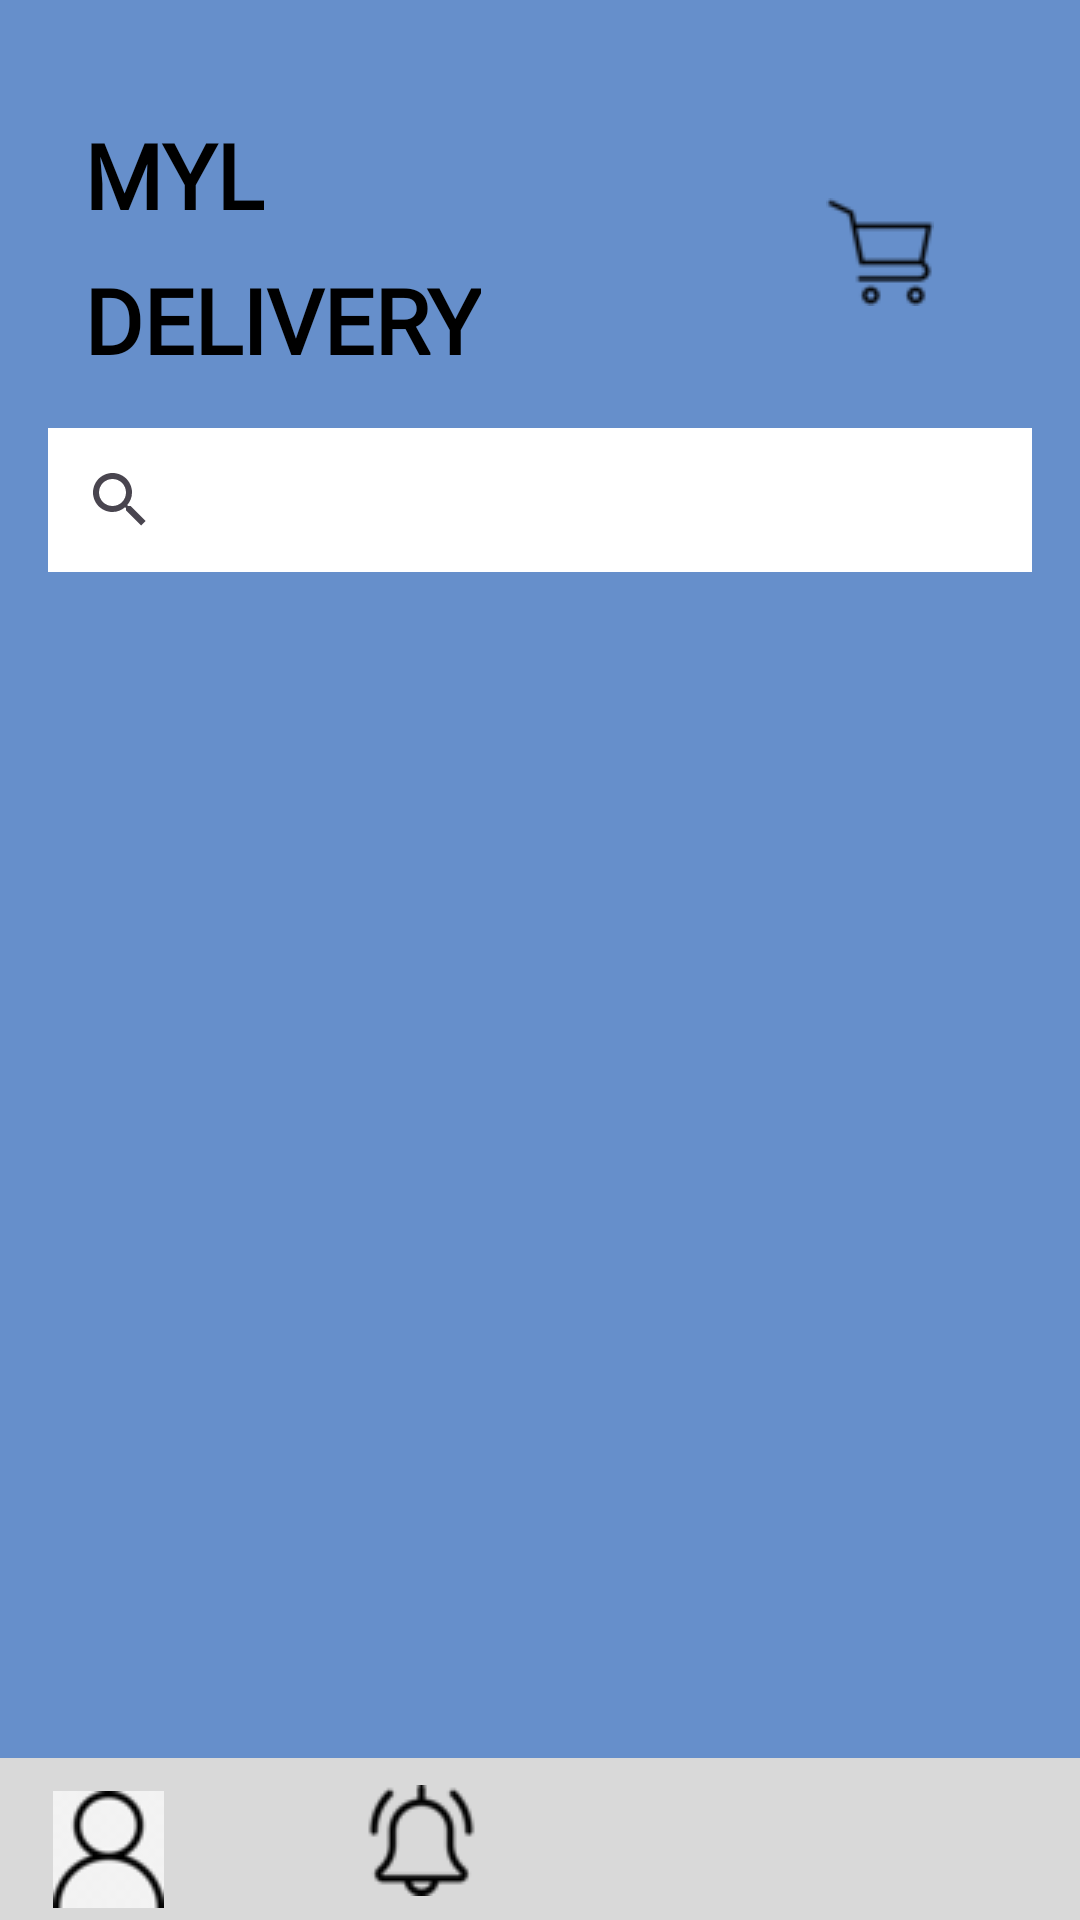

Point at icon controls on the screen. Image size 1080*1920, points as point (x, y).
cloche: point (421, 1840)
panierr: point (881, 252)
